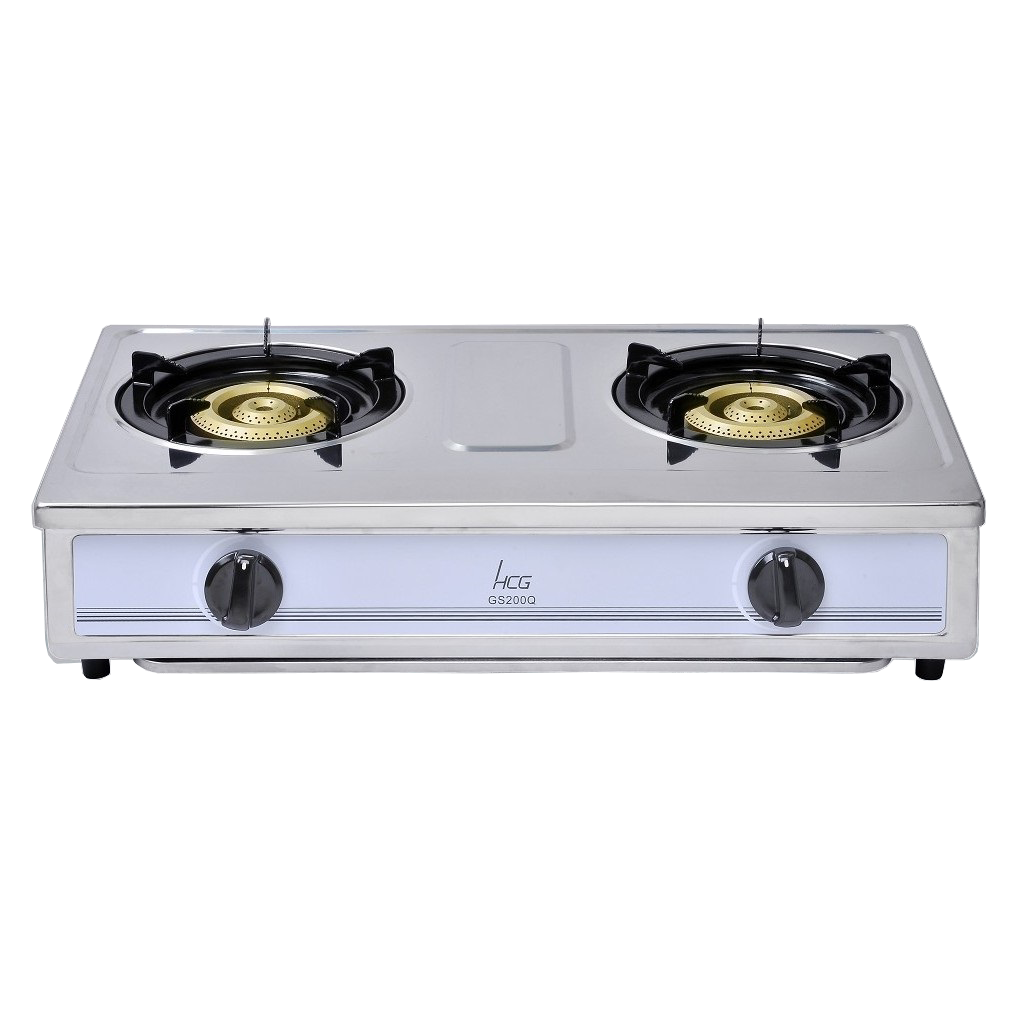gasoven: (23, 310, 1002, 704)
